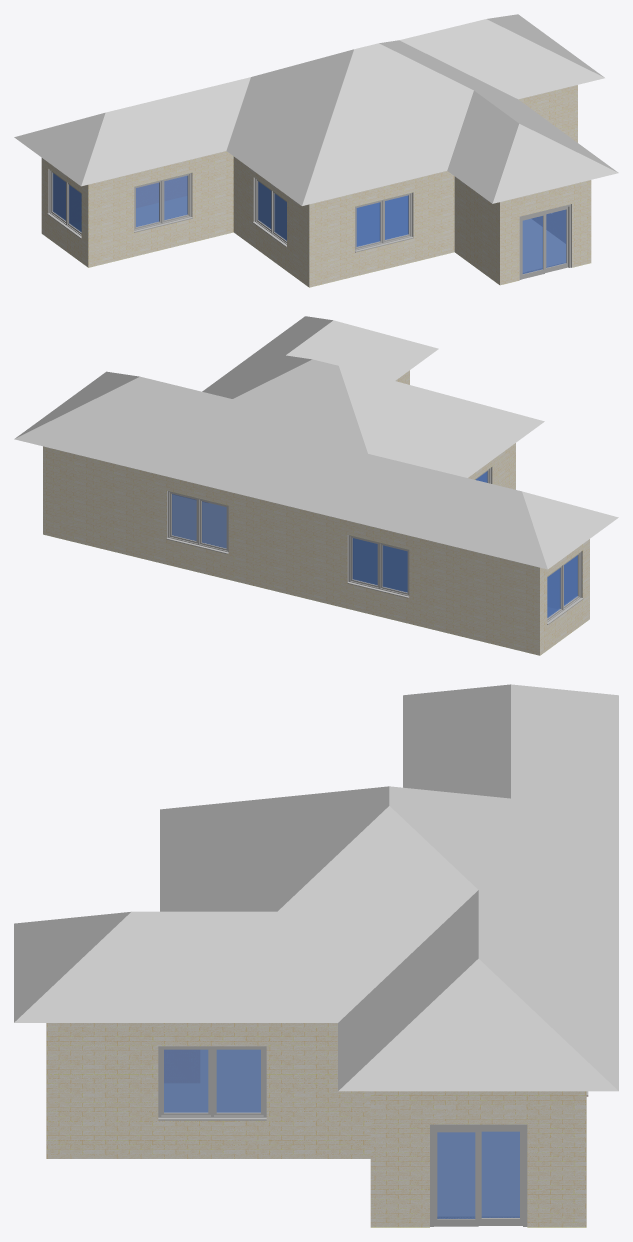
File: telhado37ab.dae
The picture shows the model from 3 angles, top to bottom: view 1: azimuth 30°, elevation 25°; view 2: azimuth 150°, elevation 25°; view 3: azimuth 270°, elevation 25°; orthographic projection. The views are drawn at different scales.
Parts seen in each view (by area): view 1: SketchUp (×25); view 2: SketchUp (×16); view 3: SketchUp (×11).
Part boxes in pixels (left/top/right/bottom): SketchUp (×25): left=14, top=14, right=618, bottom=287; SketchUp (×16): left=14, top=316, right=618, bottom=655; SketchUp (×11): left=14, top=684, right=618, bottom=1227.
Bounding box in the file's own units: 683 × 441 × 217.
